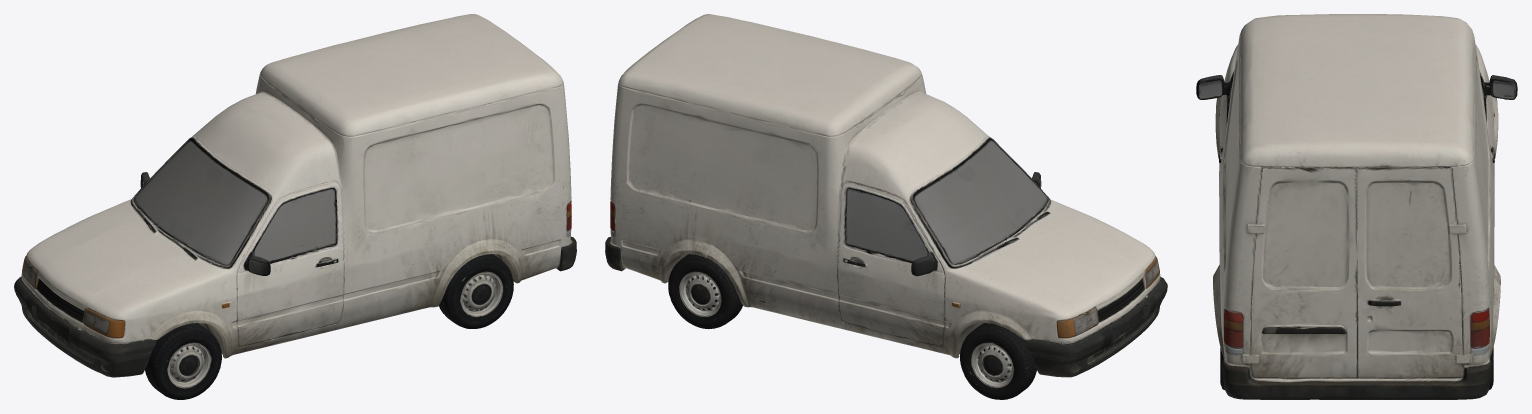
File: fourgon.glb
3 views of the same model, side by side, from view 1: azimuth 30°, elevation 25°; view 2: azimuth 150°, elevation 25°; view 3: azimuth 270°, elevation 25° (orthographic). The views are drawn at different scales.
Bounding box in the file's own units: 1.9 × 0.8858 × 0.8557.
Materials: 1 (1 with a texture image).
